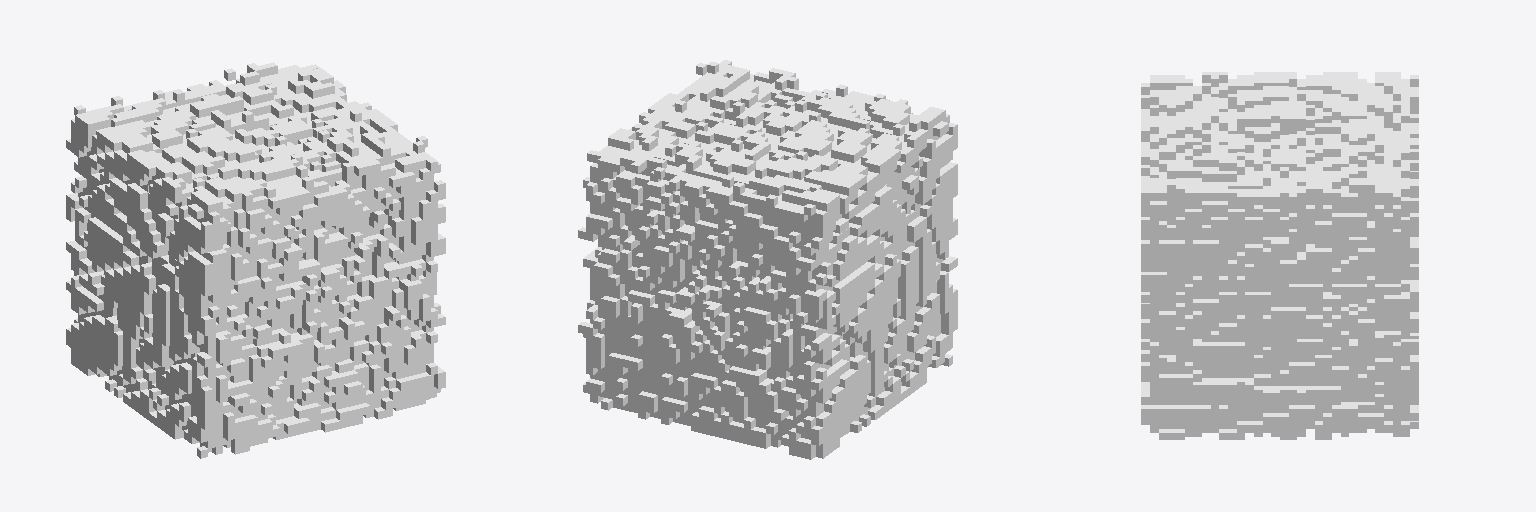
File: Identifier.obj
3 views of the same model, side by side, from view 1: azimuth 30°, elevation 25°; view 2: azimuth 150°, elevation 25°; view 3: azimuth 270°, elevation 25° (orthographic).
Parts seen in each view (by area): view 1: object 1; view 2: object 1; view 3: object 1.
Part boxes in pixels (bbox=[...]): object 1: bbox=[66, 62, 445, 458]; object 1: bbox=[578, 60, 957, 459]; object 1: bbox=[1141, 72, 1418, 439].
Size of the model in its own units: 3.2 by 3.2 by 3.2.